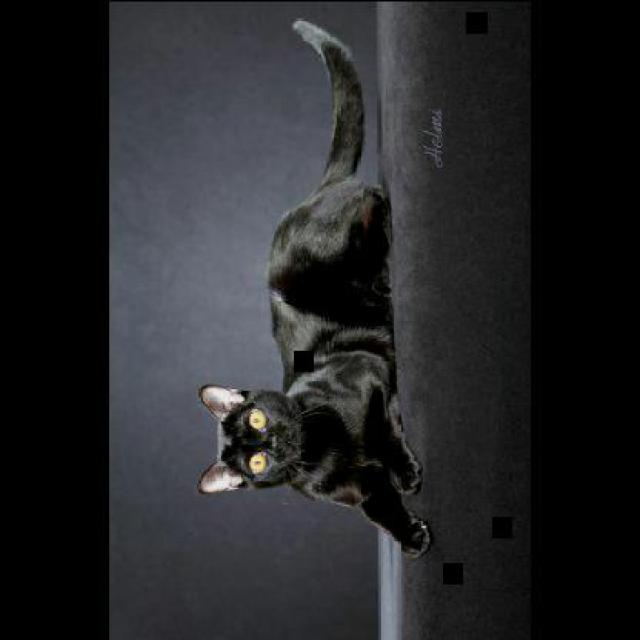unauthorized: (195, 17, 432, 558)
